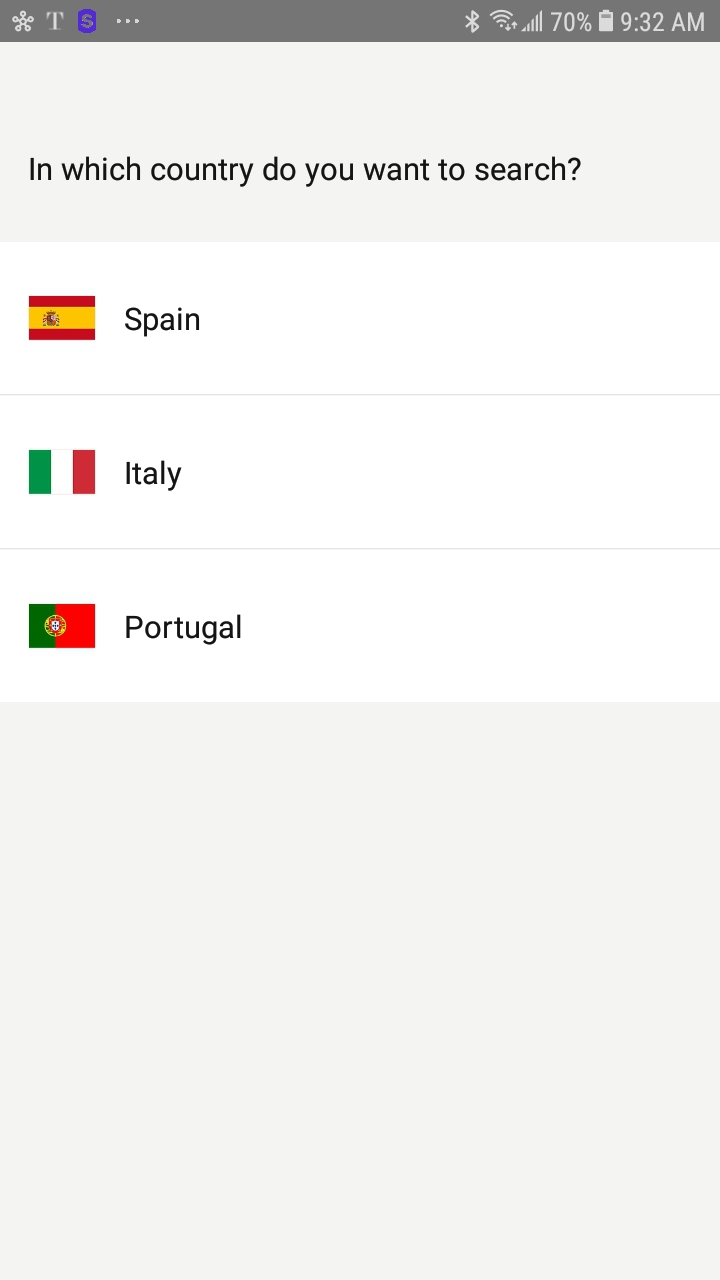Image: (29, 296, 97, 342), (30, 449, 97, 495), (30, 604, 97, 649)
Text: (31, 157, 582, 189), (126, 614, 242, 646), (126, 460, 183, 492)
UpperTaskBar: (1, 1, 720, 43)
